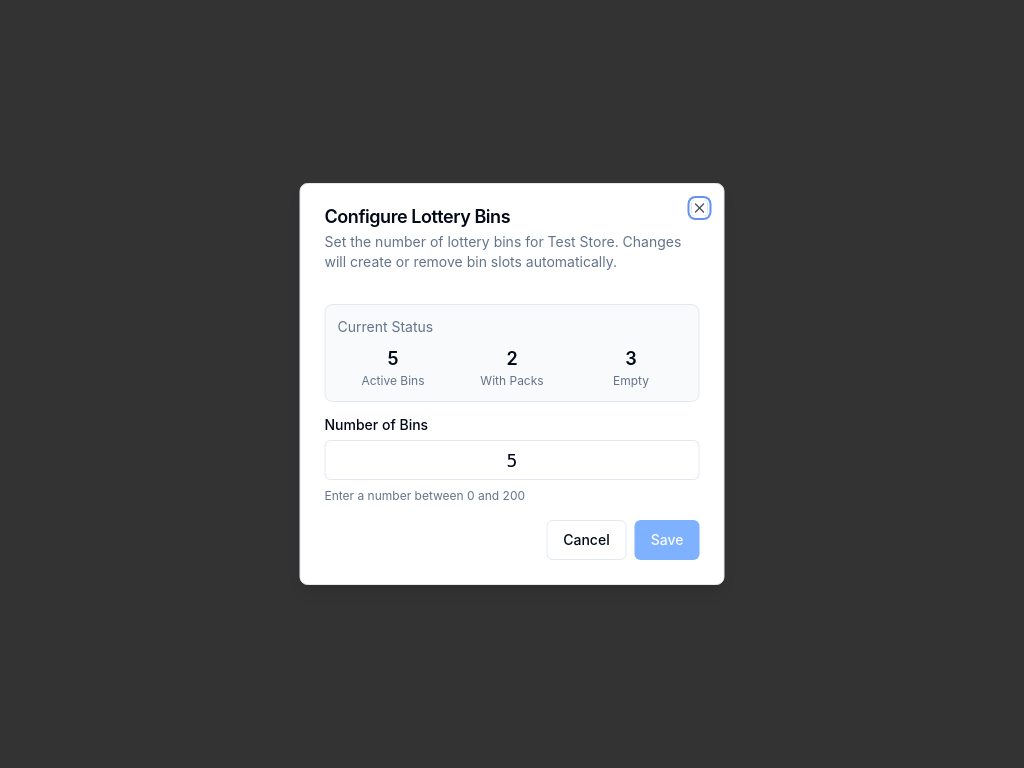
Test case: BinCountModal › Input Validation › should only accept numeric input
Step 1. Replace the text in the field with test id "bin-count-input" with "abc123xyz" → (512, 460), box left=324, top=440, right=700, bottom=480
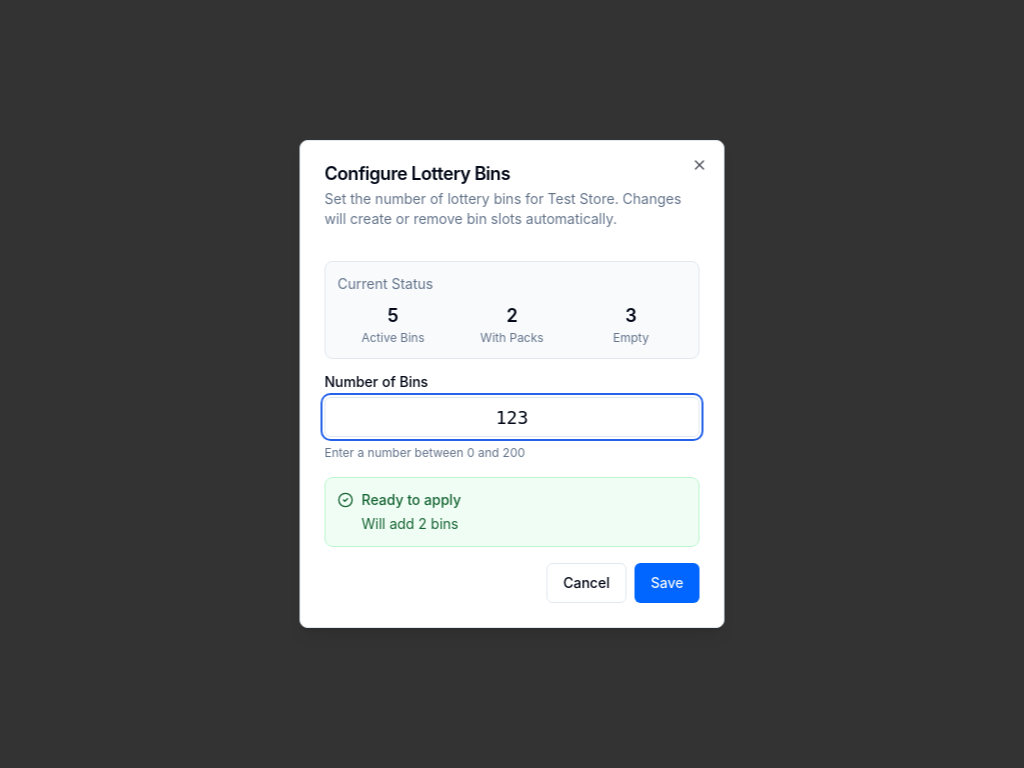
expect the field with test id "bin-count-input" holds "123": met, box left=324, top=397, right=700, bottom=437
